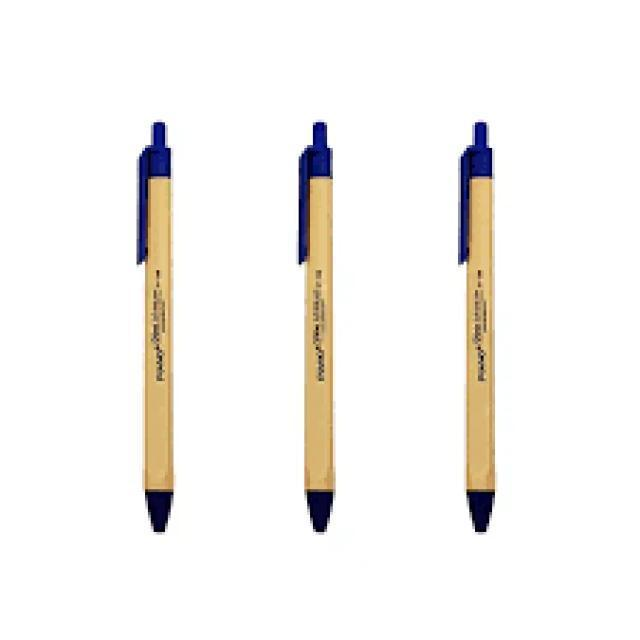pen: (132, 118, 178, 539)
